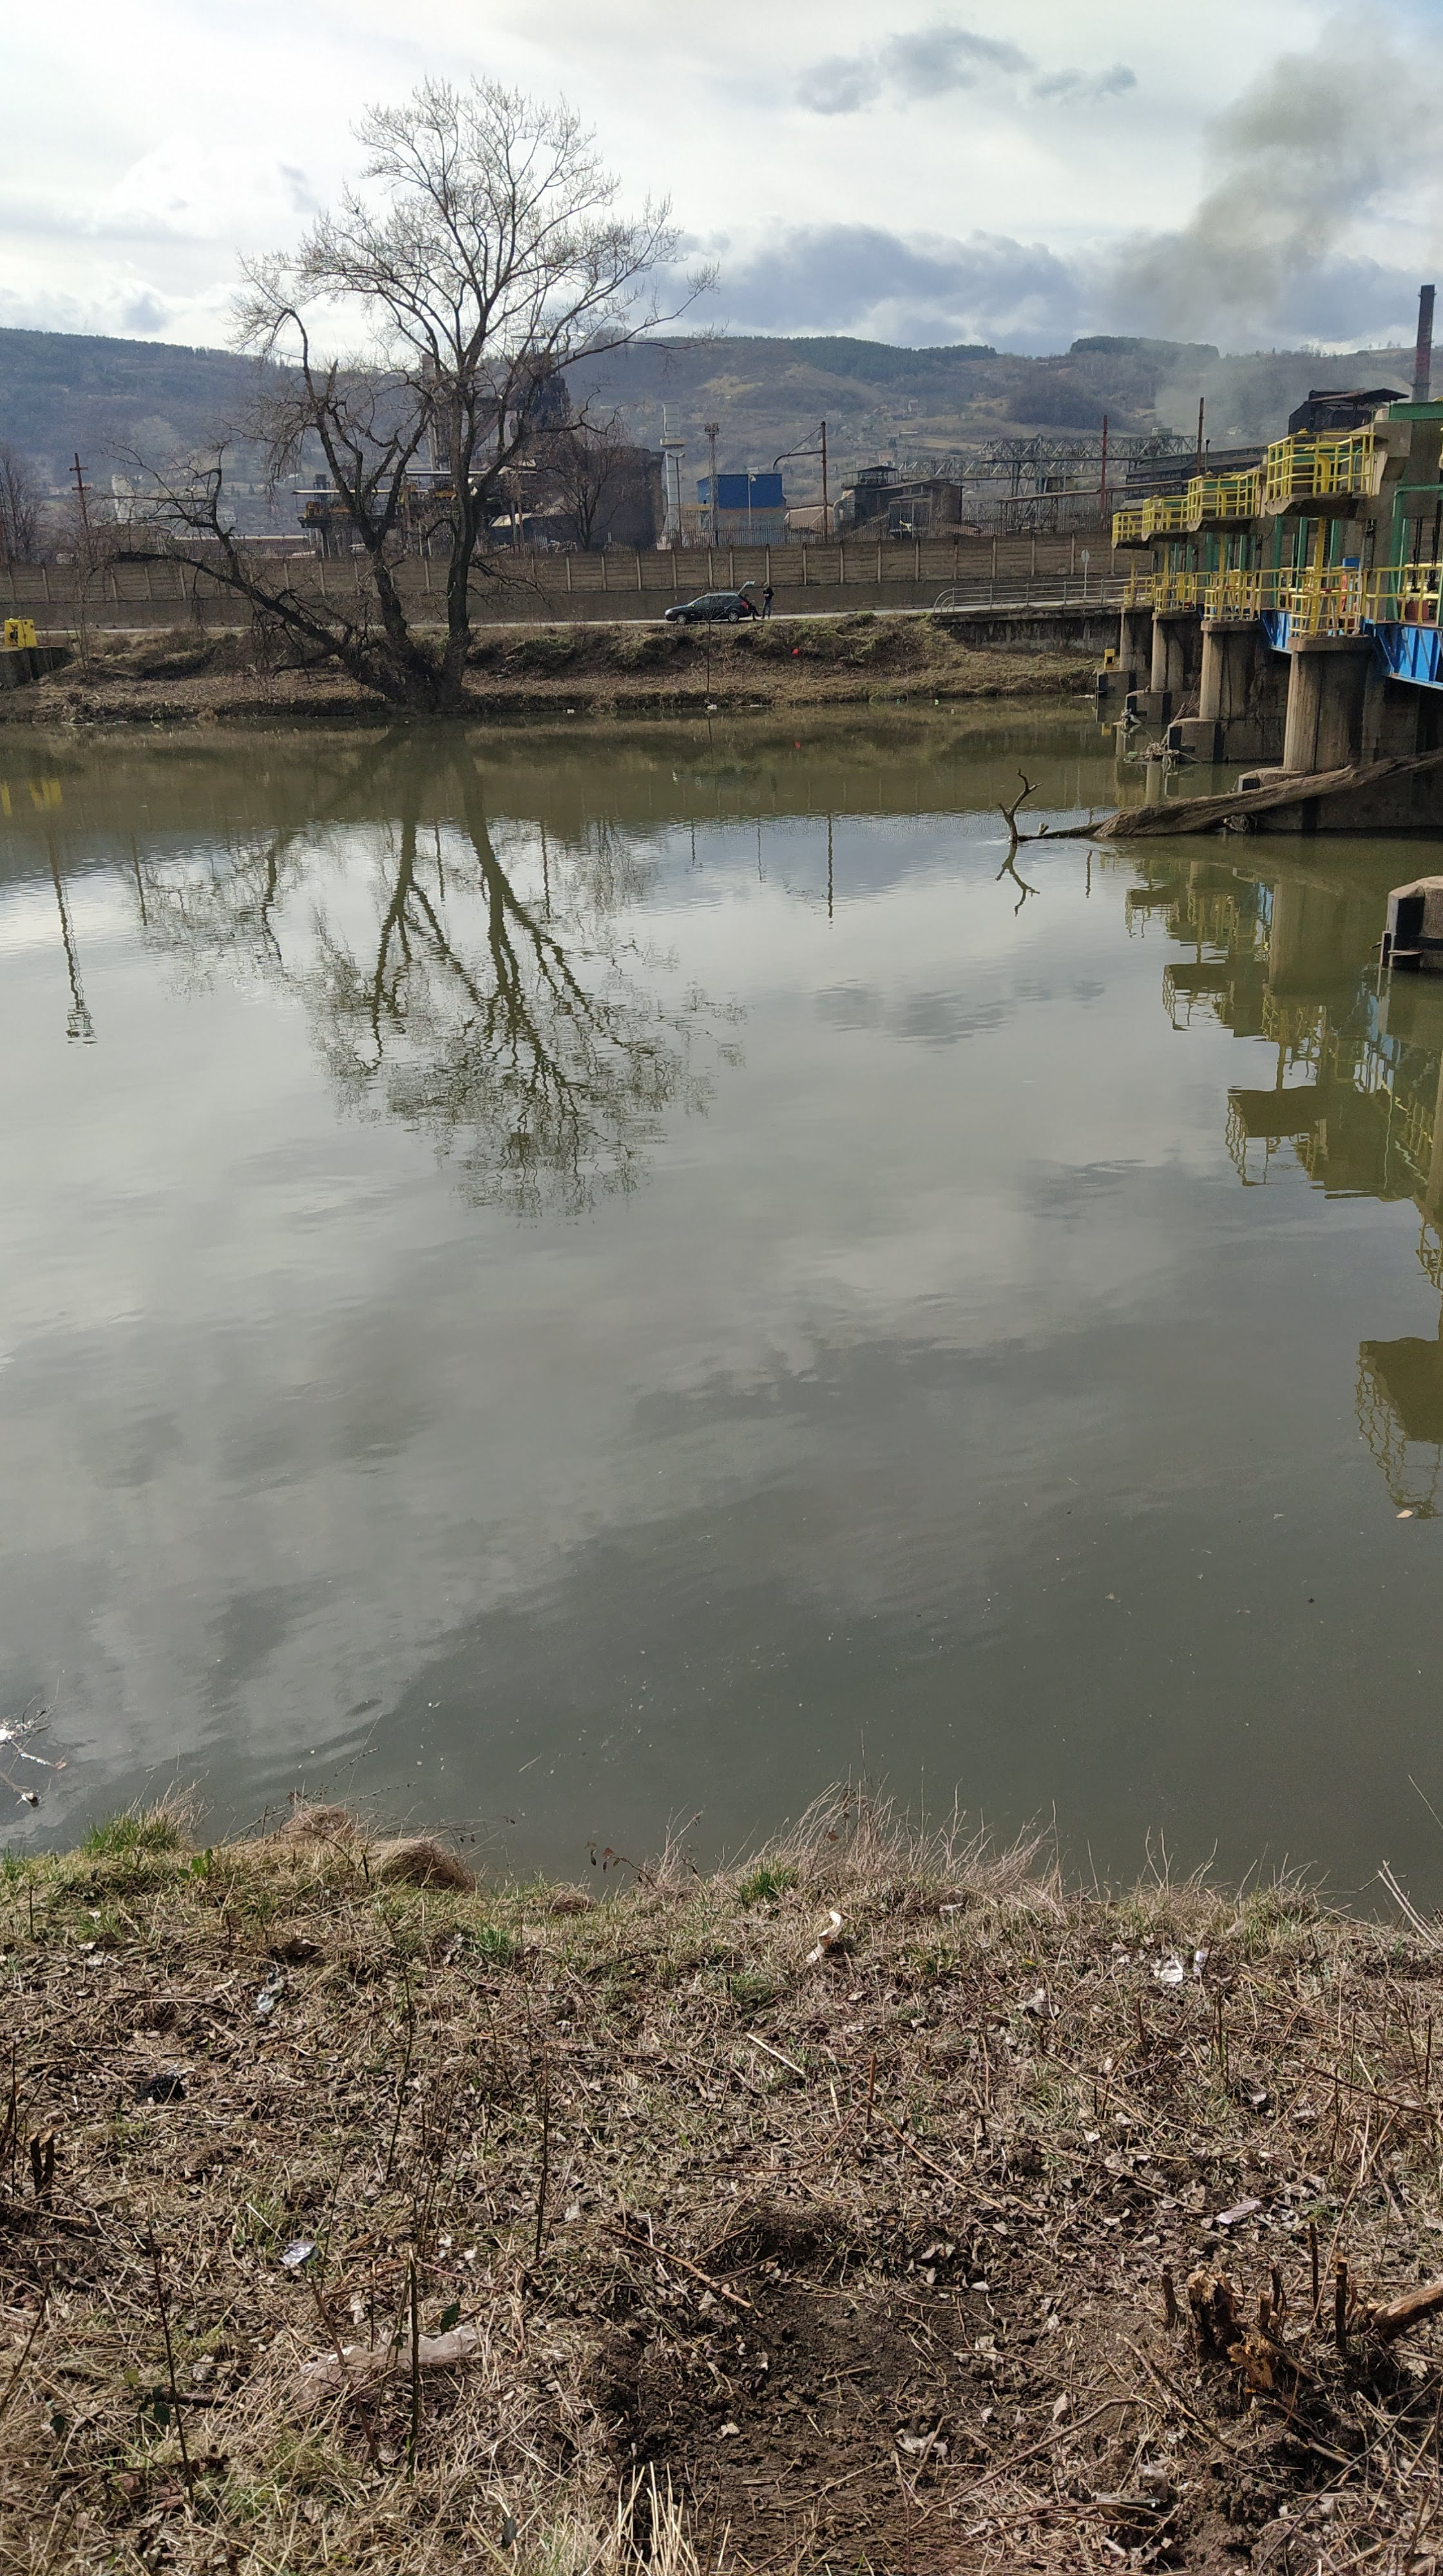Plastic Bottle: (1128, 750, 1137, 755), (706, 704, 717, 708), (896, 699, 899, 702), (567, 709, 574, 711), (935, 699, 937, 701)
